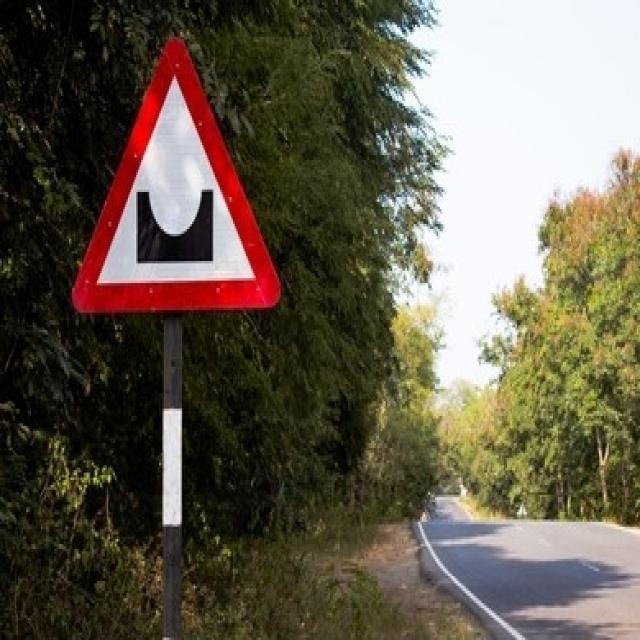dangerous dip: (69, 35, 283, 318)
